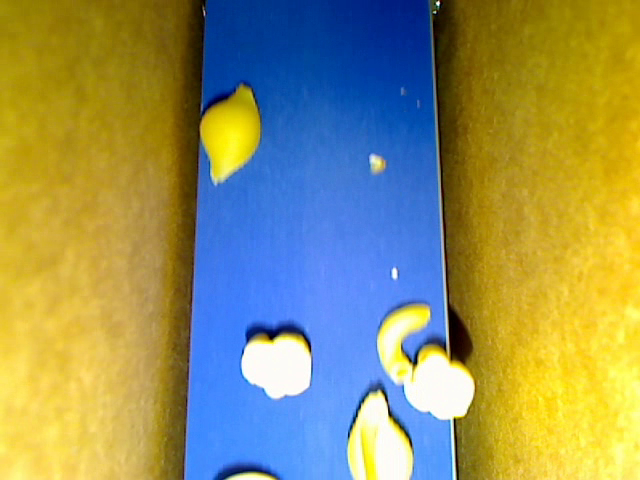elbow: (377, 302, 432, 385)
shell: (198, 83, 260, 183), (347, 389, 413, 479)
